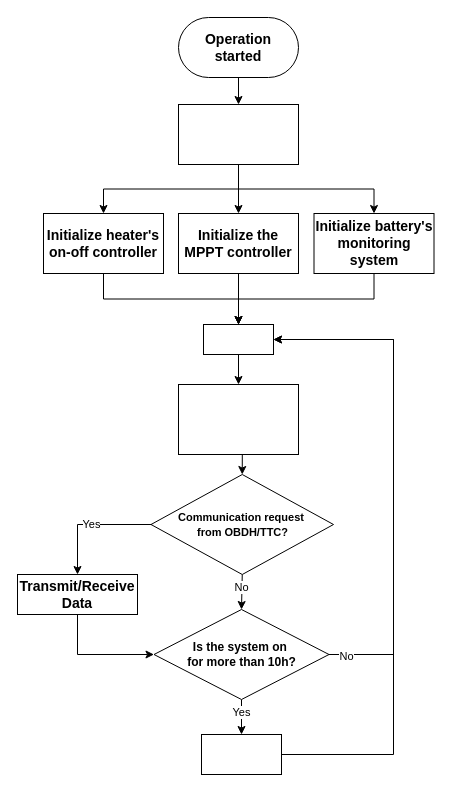
Image size: 452x792. Some labels were removed from this diagram. The box of each missing label's shape, as (x1, y1, x2, y2) in pixels:
Initialize sensors and microcontroller: (178, 104, 298, 164)
Read sensors: (202, 324, 274, 354)
System reset: (200, 734, 282, 774)
Update the heater's on-off controller and MPPT controller: (178, 384, 298, 454)
